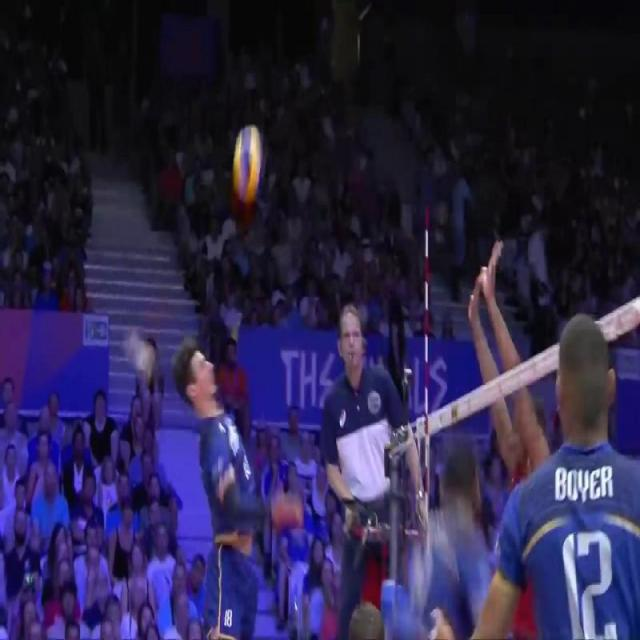volleyball: (234, 125, 266, 182)
